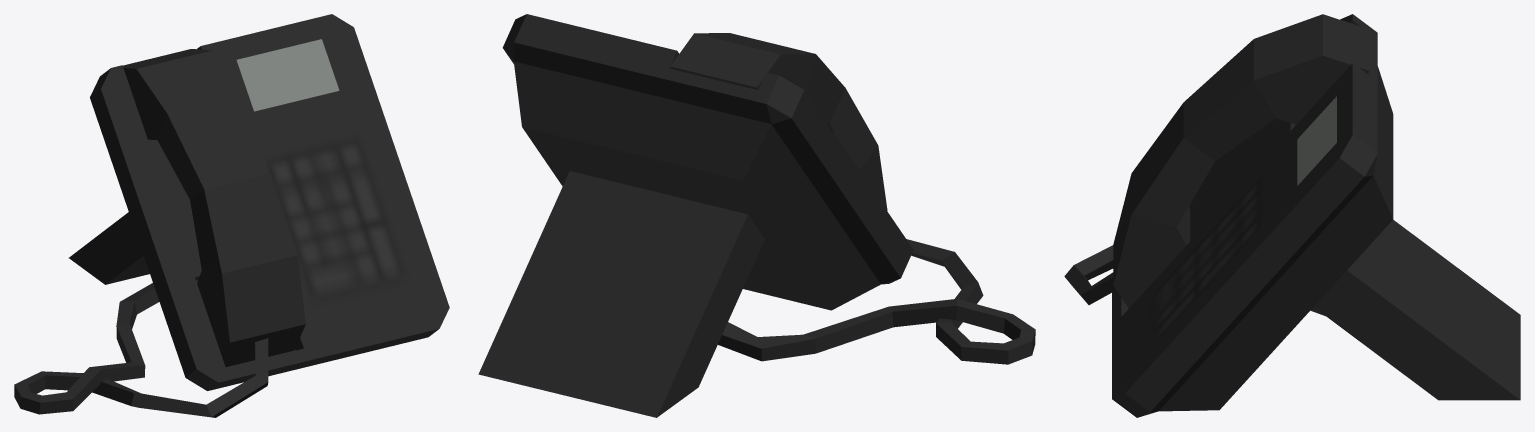
The model's file is SM_Prop_Phone_Desk_01.glb.
3 views of the same model, side by side, from view 1: azimuth 30°, elevation 25°; view 2: azimuth 150°, elevation 25°; view 3: azimuth 270°, elevation 25° (orthographic). The views are drawn at different scales.
Visible parts, largest first — view 1: SM_Prop_Phone_Desk_01; view 2: SM_Prop_Phone_Desk_01; view 3: SM_Prop_Phone_Desk_01.
Part boxes in pixels (box(x1,y1,x2,y2)): SM_Prop_Phone_Desk_01: box(14, 14, 449, 417); SM_Prop_Phone_Desk_01: box(478, 14, 1035, 417); SM_Prop_Phone_Desk_01: box(1064, 14, 1520, 417).
Bounding box in the file's own units: 0.4489 × 0.2852 × 0.4031.
Materials: 1 (1 with a texture image).
